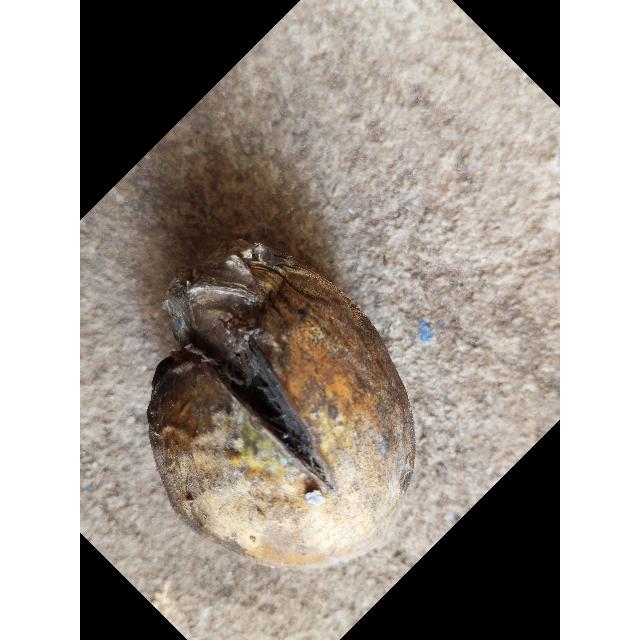damaged: (146, 239, 415, 571)
